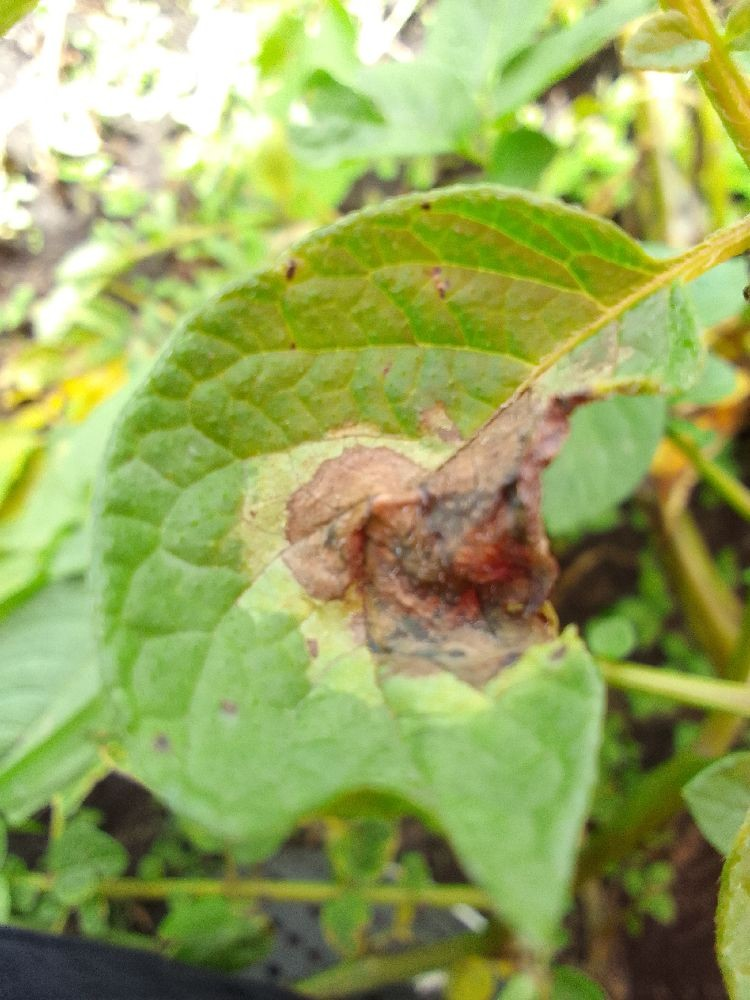late_blight: (222, 0, 749, 777), (0, 731, 381, 1000), (374, 800, 485, 899), (0, 222, 70, 315)
